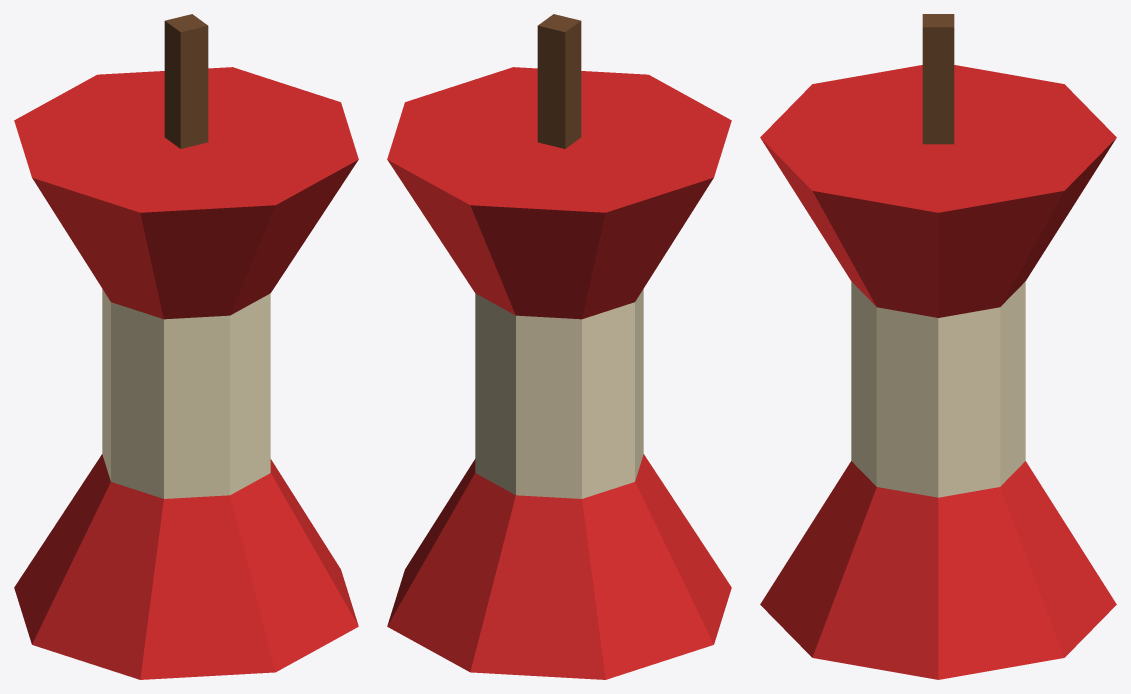
File: Trash_AppleCore.fbx
The picture shows the model from 3 angles, left to right: view 1: azimuth 30°, elevation 25°; view 2: azimuth 150°, elevation 25°; view 3: azimuth 270°, elevation 25°; orthographic projection.
Visible parts, largest first — view 1: Trash_AppleCore; view 2: Trash_AppleCore; view 3: Trash_AppleCore.
Boxes of the visible parts, x1=… form: Trash_AppleCore: x1=14, y1=14, x2=358, y2=679; Trash_AppleCore: x1=387, y1=14, x2=731, y2=679; Trash_AppleCore: x1=760, y1=14, x2=1116, y2=679.
Bounding box in the file's own units: 0.09 × 0.1625 × 0.09.
